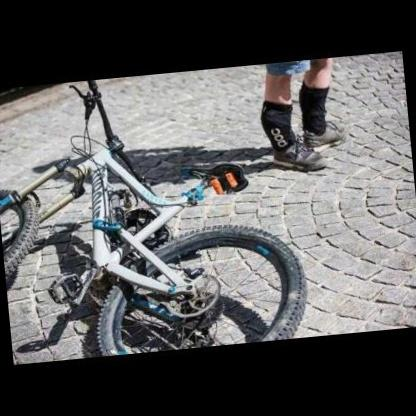Bicycle: (3, 74, 321, 349)
